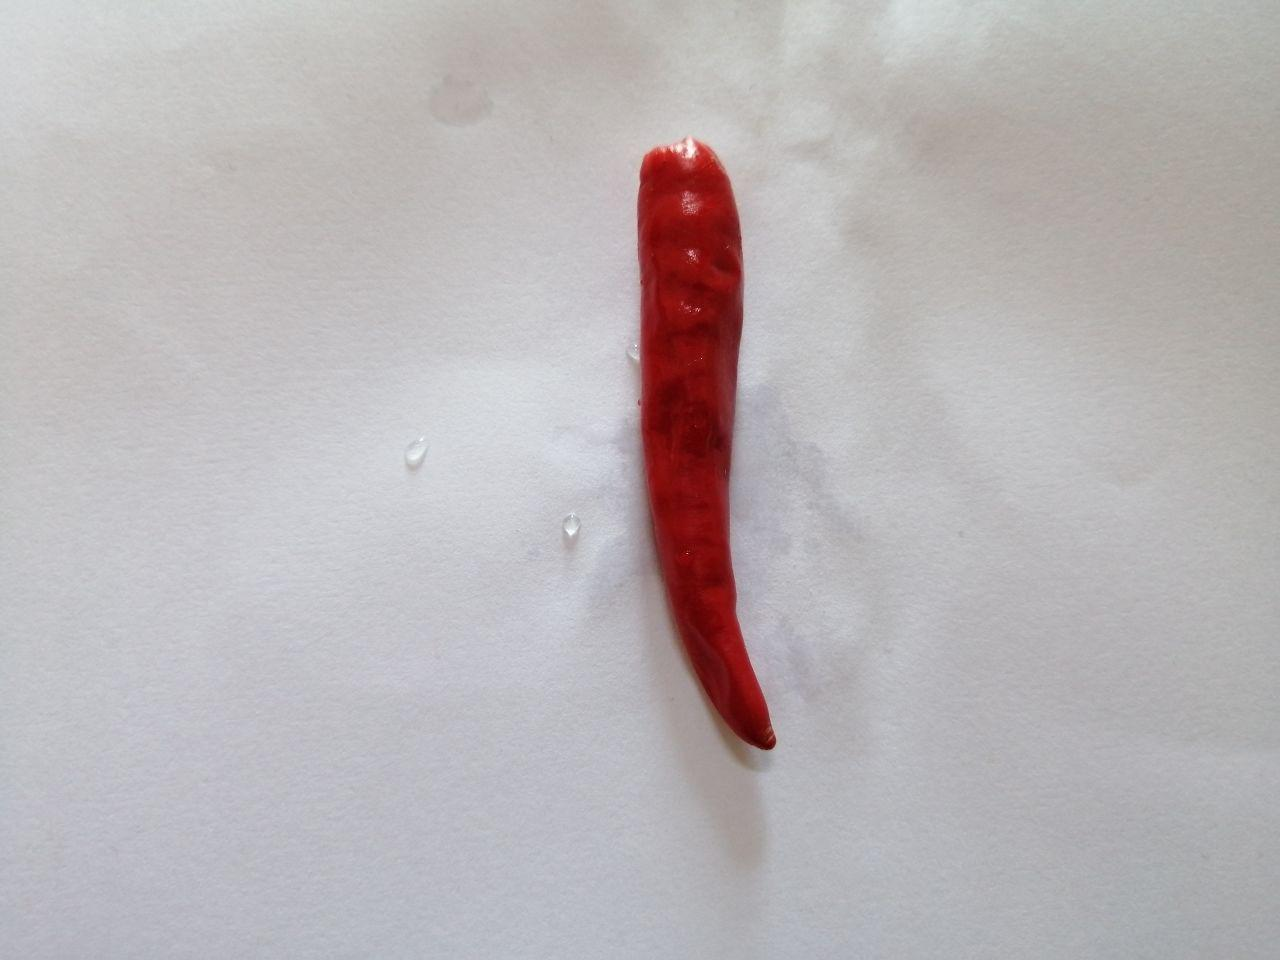lada merah: (625, 124, 787, 761)
